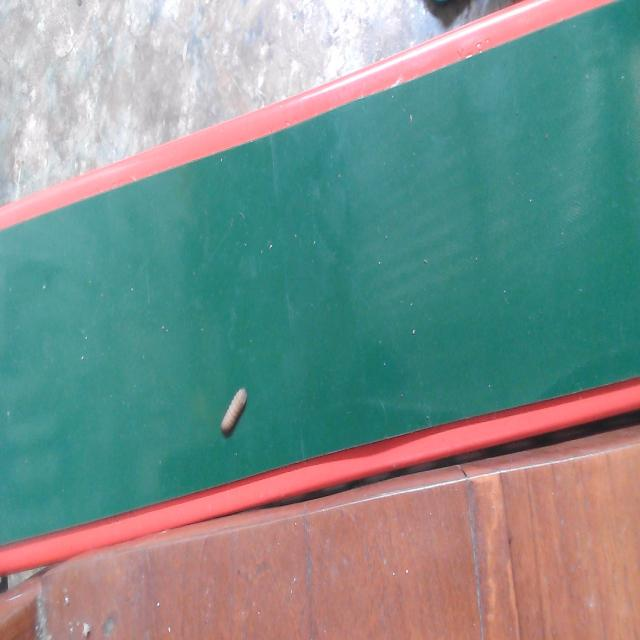Maggot: (219, 388, 248, 439)
